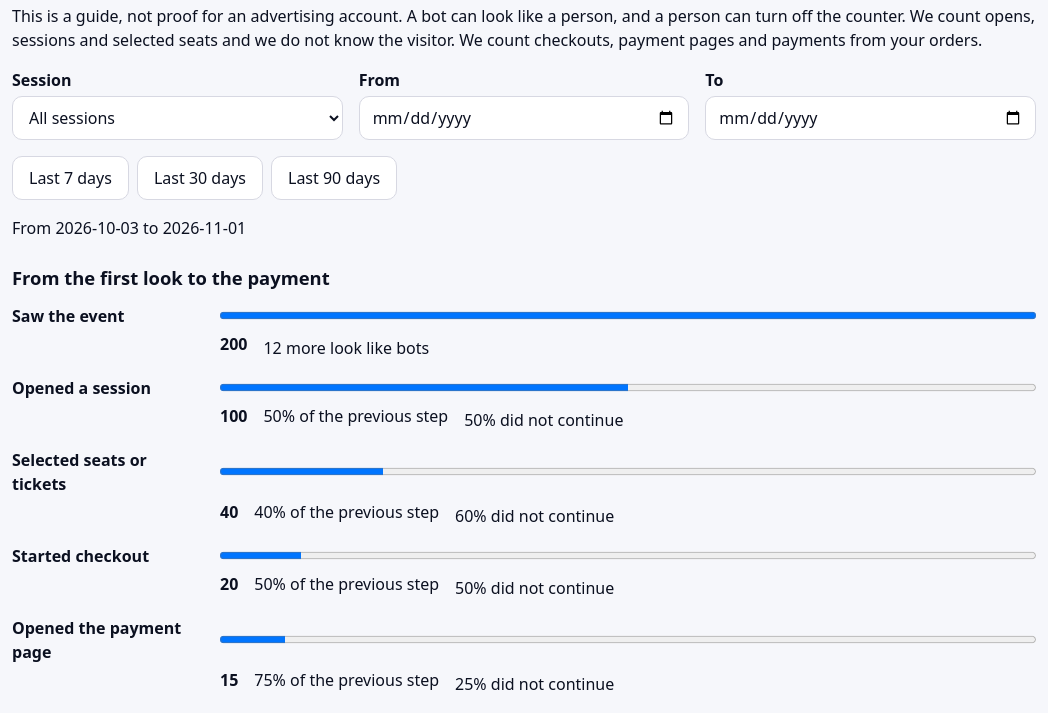
Test: the sales funnel block › asks for one session and shows the view as unavailable
Step 1. Select "Wed, 2 Dec 2026, 12:30 (Auckland)" in the dropdown labelled "Session" → (177, 118), box [12,96,343,140]
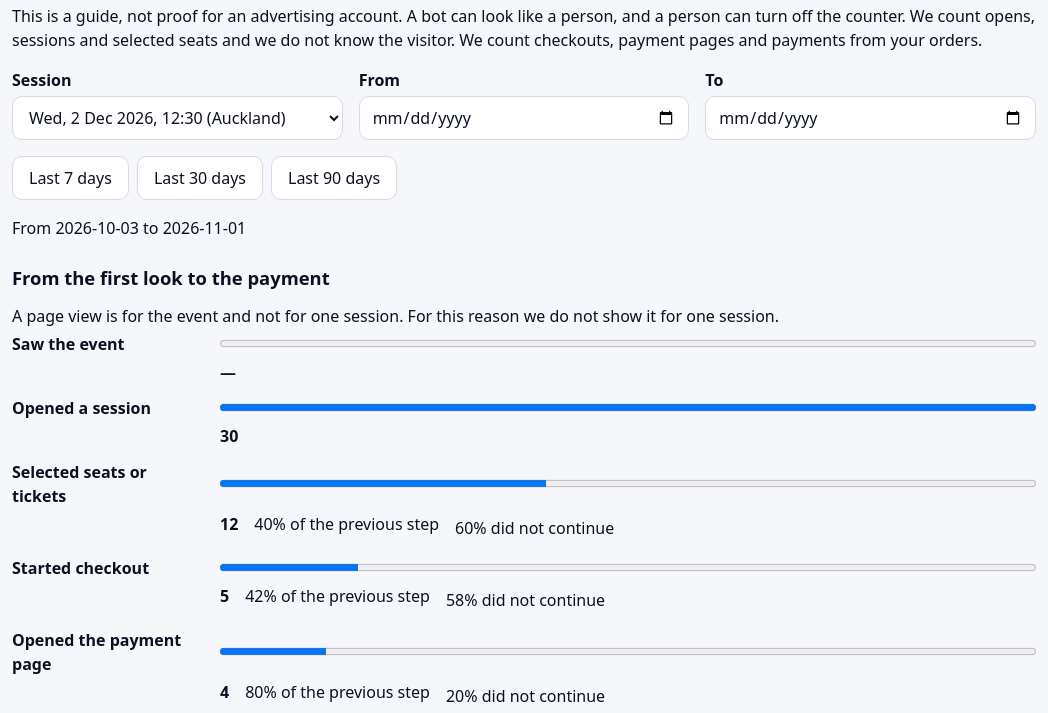
Expected: the text with test id "funnel-count" reads "—", [220,361,236,383]
Expected: the text "A page view is for the event and not for one session" is shown, [12,305,779,327]
